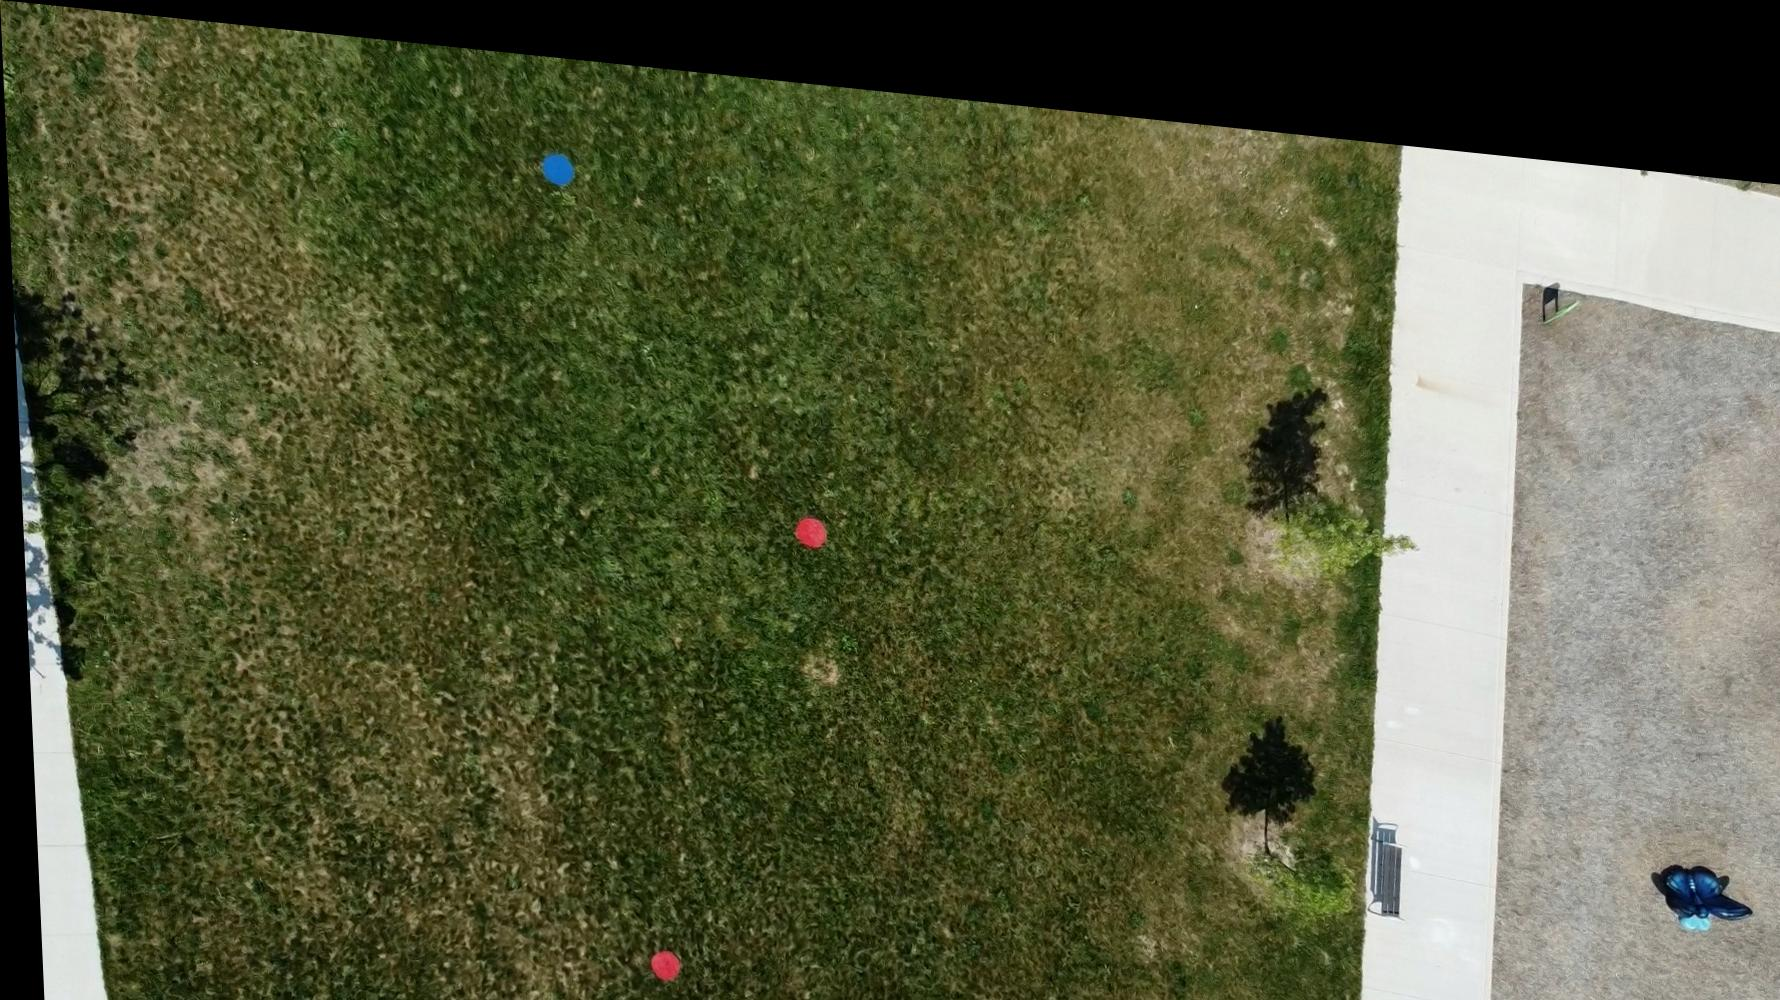Blue: (540, 141, 575, 176)
Red: (789, 498, 824, 534), (641, 934, 676, 969)
